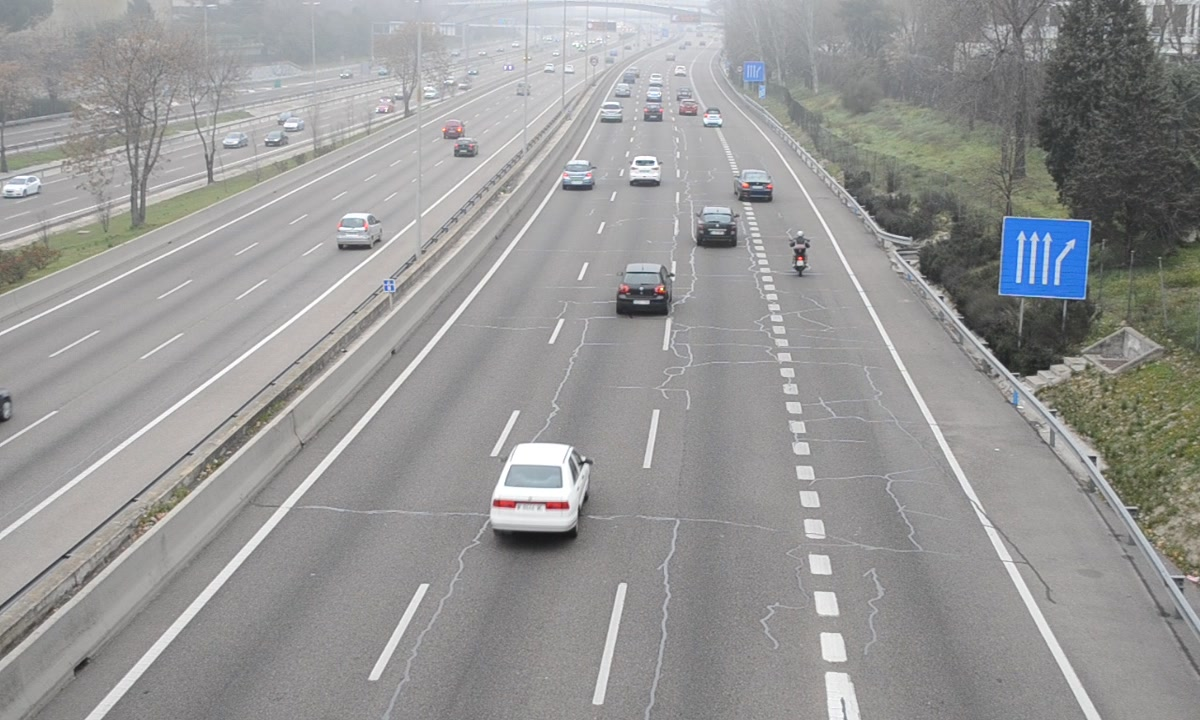car: (490, 444, 591, 532), (617, 265, 672, 313), (694, 207, 738, 250), (736, 170, 774, 204), (560, 160, 595, 191), (628, 156, 663, 183), (601, 98, 623, 123)
motorcycle: (790, 230, 811, 281)
